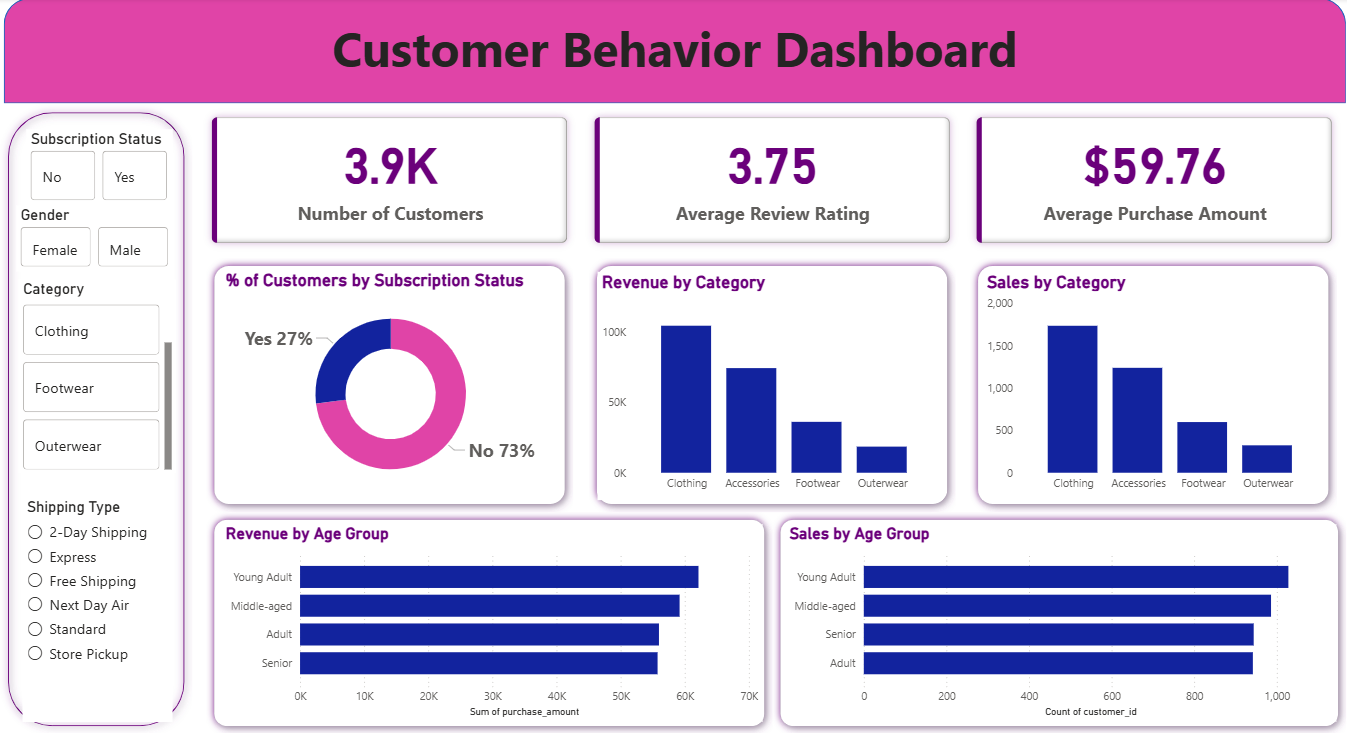

Layout of this report page (visuals, bound fields, positions):
{"tool":"powerbi","page":{"name":"Page 1","canvas":[1500,820],"ordinal":0},"visuals":[{"type":"cardVisual","fields":{"Data":["public customer.Number of Customers","public customer.Average Review Rating","public customer.Average Purchase Amount"]},"box":[220.3,117.4,1280,172.1],"z":0},{"type":"shape","box":[4.8,0,1495.5,117.4],"z":1000},{"type":"textbox","box":[4.8,14.5,1495.5,102.9],"z":2000},{"type":"shape","box":[230,289.5,408.4,283],"z":3000},{"type":"donutChart","title":"% of Customers by Subscription Status","fields":{"Category":["public customer.subscription_status"],"Y":["CountNonNull(public customer.customer_id)"]},"box":[246,303.9,377.9,254.1],"z":4000},{"type":"shape","box":[655.3,289.5,408.4,283],"z":5000},{"type":"shape","box":[1080.6,289.5,408.4,283],"z":6000},{"type":"clusteredColumnChart","title":"Revenue by Category","fields":{"Y":["Sum(public customer.purchase_amount)"],"Category":["public customer.category"]},"box":[666.3,304.6,381.2,254.1],"z":7000},{"type":"clusteredColumnChart","title":"Sales by Category","fields":{"Category":["public customer.category"],"Y":["CountNonNull(public customer.customer_id)"]},"box":[1094.7,304.6,381.2,254.1],"z":8000},{"type":"shape","box":[0,118.4,214.5,701.9],"z":9000},{"type":"advancedSlicerVisual","fields":{"Values":["public customer.subscription_status"]},"box":[29.2,146.2,162.9,85],"z":10000},{"type":"advancedSlicerVisual","fields":{"Values":["public customer.gender"]},"box":[18.1,231.2,175.5,73.8],"z":11000},{"type":"advancedSlicerVisual","fields":{"Values":["public customer.category"]},"box":[20.9,313.4,175.5,215.9],"z":12000},{"type":"listSlicer","fields":{"Values":["public customer.shipping_type"]},"box":[25.1,557.1,167.1,249.3],"z":13000},{"type":"shape","box":[229.8,572.4,630.9,247.9],"z":13002},{"type":"shape","box":[860.7,572.4,639.2,247.9],"z":13003},{"type":"clusteredBarChart","title":"Sales by Age Group","fields":{"Y":["CountNonNull(public customer.customer_id)"],"Category":["public customer.age_group"]},"box":[874.6,586.3,614.2,220],"z":13004},{"type":"clusteredBarChart","title":"Revenue by Age Group","fields":{"Y":["Sum(public customer.purchase_amount)"],"Category":["public customer.age_group"]},"box":[246.5,586.3,603,220],"z":13005}]}

Visuals, with their boxes in screenshot pixels (x1, y1, x2, y2), scaled from the page's 1500x820 canvas onto the 1347x733 screenshot:
cardVisual - public customer.Number of Customers x public customer.Average Review Rating: {"x1": 198, "y1": 105, "x2": 1346, "y2": 259}
shape: {"x1": 4, "y1": 0, "x2": 1346, "y2": 105}
textbox: {"x1": 4, "y1": 13, "x2": 1346, "y2": 105}
shape: {"x1": 207, "y1": 259, "x2": 573, "y2": 512}
"% of Customers by Subscription Status" donutChart: {"x1": 221, "y1": 272, "x2": 560, "y2": 499}
shape: {"x1": 588, "y1": 259, "x2": 955, "y2": 512}
shape: {"x1": 970, "y1": 259, "x2": 1337, "y2": 512}
"Revenue by Category" clusteredColumnChart: {"x1": 598, "y1": 272, "x2": 941, "y2": 499}
"Sales by Category" clusteredColumnChart: {"x1": 983, "y1": 272, "x2": 1325, "y2": 499}
shape: {"x1": 0, "y1": 106, "x2": 193, "y2": 732}
advancedSlicerVisual - public customer.subscription_status: {"x1": 26, "y1": 131, "x2": 173, "y2": 207}
advancedSlicerVisual - public customer.gender: {"x1": 16, "y1": 207, "x2": 174, "y2": 273}
advancedSlicerVisual - public customer.category: {"x1": 19, "y1": 280, "x2": 176, "y2": 473}
listSlicer - public customer.shipping_type: {"x1": 23, "y1": 498, "x2": 173, "y2": 721}
shape: {"x1": 206, "y1": 512, "x2": 773, "y2": 732}
shape: {"x1": 773, "y1": 512, "x2": 1346, "y2": 732}
"Sales by Age Group" clusteredBarChart: {"x1": 785, "y1": 524, "x2": 1337, "y2": 721}
"Revenue by Age Group" clusteredBarChart: {"x1": 221, "y1": 524, "x2": 763, "y2": 721}
